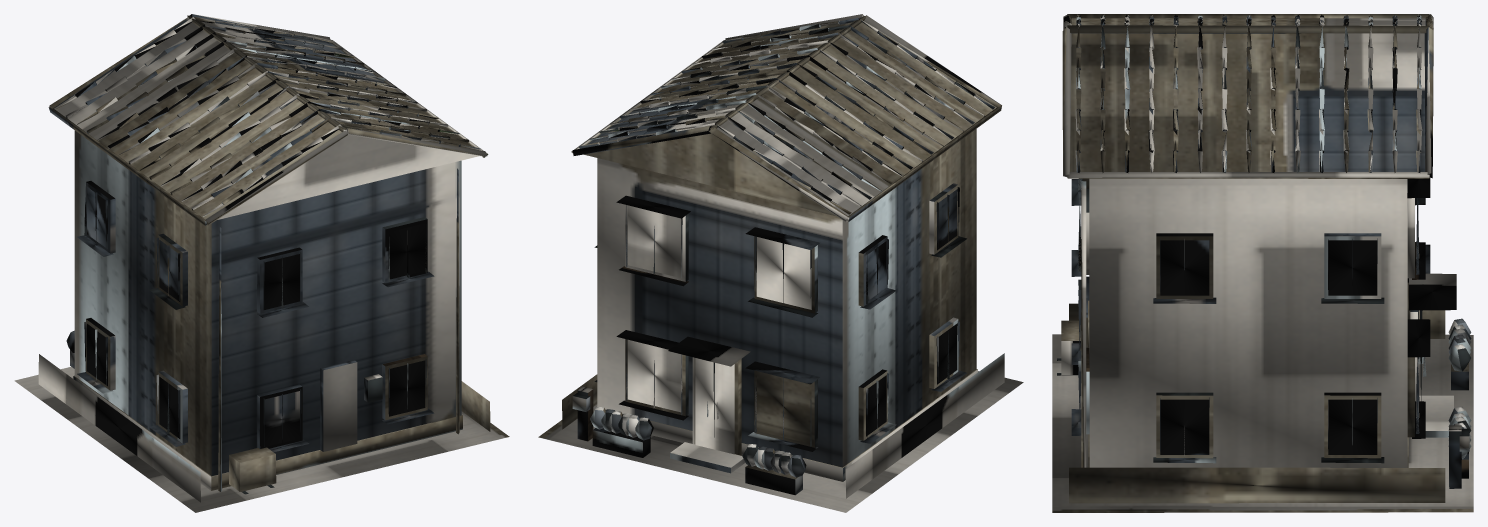
Rendered from residential_011.lod1.obj.
The picture shows the model from 3 angles, left to right: view 1: azimuth 30°, elevation 25°; view 2: azimuth 150°, elevation 25°; view 3: azimuth 270°, elevation 25°; orthographic projection. The views are drawn at different scales.
Parts seen in each view (by area): view 1: residential_011; view 2: residential_011; view 3: residential_011.
Boxes of the visible parts, x1=… form: residential_011: x1=14, y1=14, x2=509, y2=512; residential_011: x1=538, y1=14, x2=1023, y2=512; residential_011: x1=1052, y1=14, x2=1473, y2=512.
Size of the model in its own units: 7.25 by 7.56 by 7.25.
Materials: 1 (1 with a texture image).
